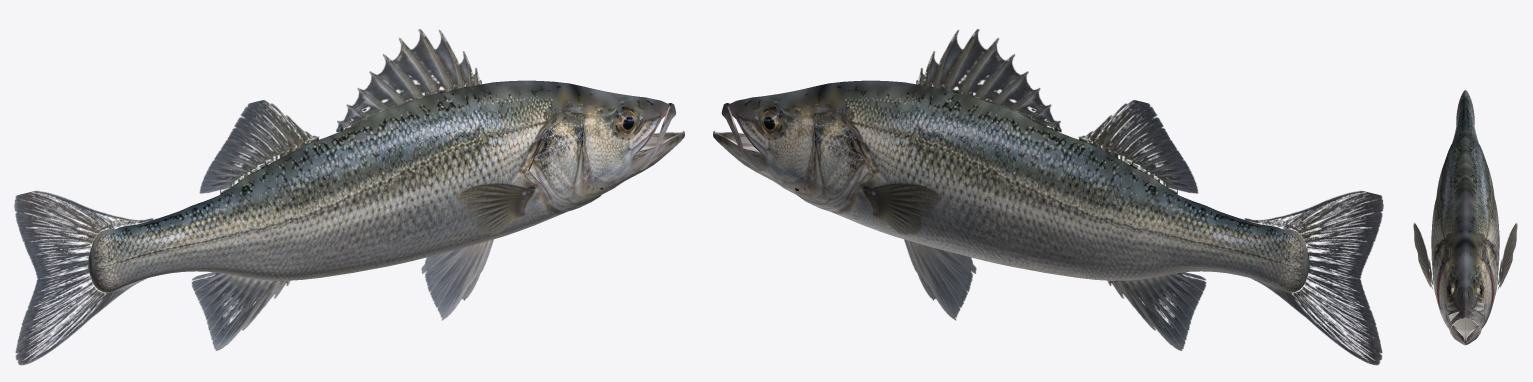
File: suzuki.glb
The picture shows the model from 3 angles, left to right: view 1: azimuth 30°, elevation 25°; view 2: azimuth 150°, elevation 25°; view 3: azimuth 270°, elevation 25°; orthographic projection. The views are drawn at different scales.
Parts seen in each view (by area): view 1: suzuki; view 2: suzuki; view 3: suzuki.
Part boxes in pixels (x1=…): suzuki: x1=14, y1=29, x2=684, y2=365; suzuki: x1=713, y1=29, x2=1383, y2=365; suzuki: x1=1413, y1=90, x2=1517, y2=345.
Bounding box in the file's own units: 0.6009 × 0.2542 × 0.1086.
1 material, 1 textured.
